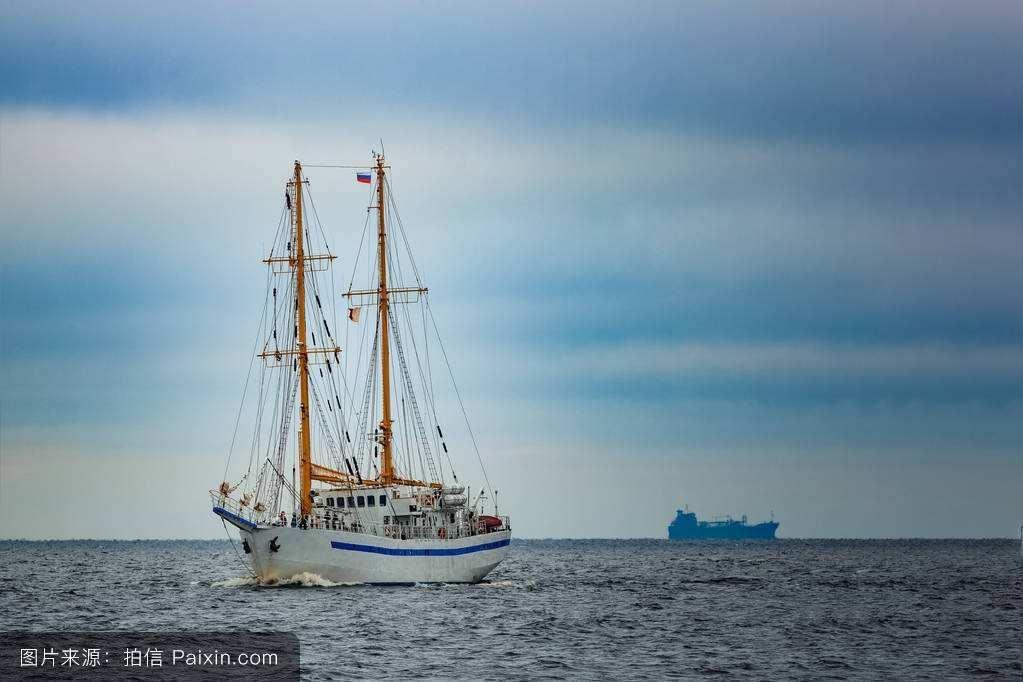Cargoship: (664, 499, 785, 545)
fanchuan: (201, 144, 538, 594)
